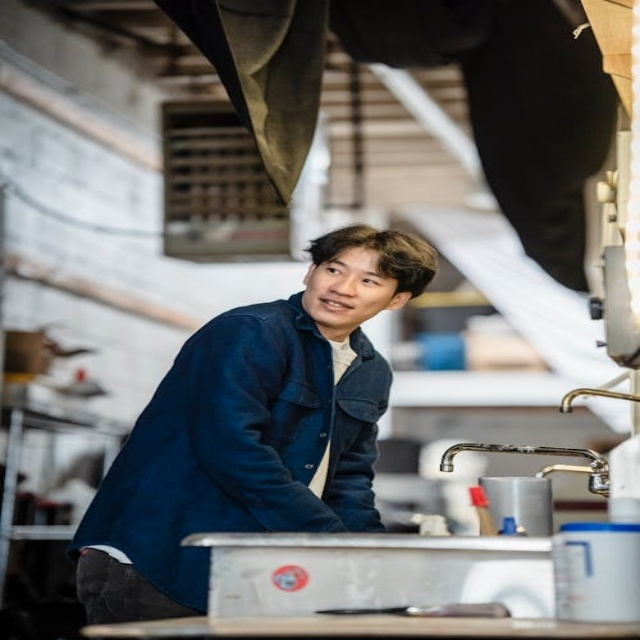Sin_gafas: (319, 256, 396, 288)
Sin_mascara: (311, 294, 361, 323)
